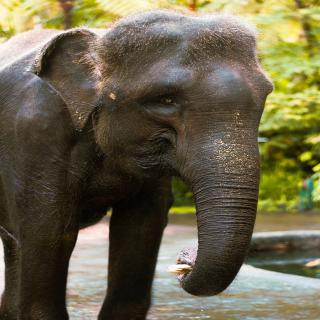Elephant: (0, 6, 278, 320)
